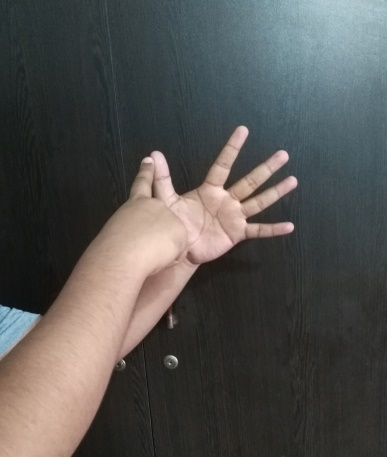a: (115, 125, 299, 278)
